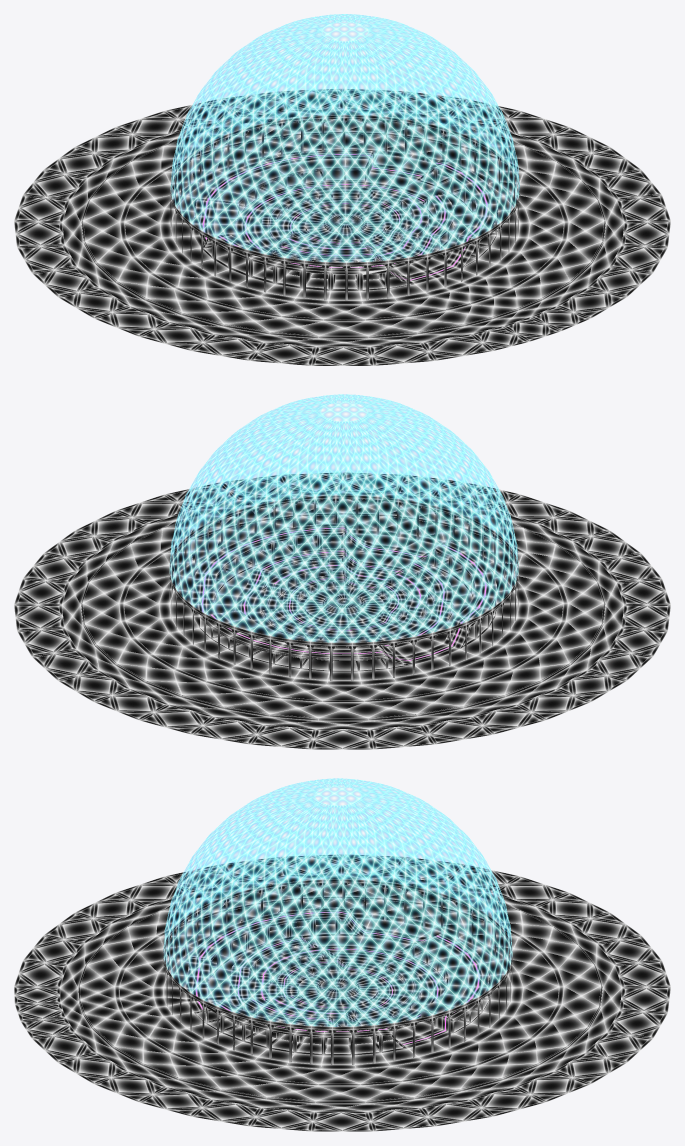
Rendered from uxr_dome_hall.glb.
3 renders of one model, top to bottom at view 1: azimuth 30°, elevation 25°; view 2: azimuth 150°, elevation 25°; view 3: azimuth 270°, elevation 25°, orthographic.
Visible parts, largest first — view 1: domeSTRUCT, DOME, domeCOLUMNS; view 2: domeSTRUCT, DOME, domeCOLUMNS; view 3: domeSTRUCT, DOME, domeCOLUMNS.
Part boxes in pixels (x1,y1,x2,y2): domeSTRUCT: [14, 88, 670, 365]; DOME: [170, 14, 519, 262]; domeCOLUMNS: [170, 114, 519, 300]; domeSTRUCT: [14, 472, 670, 749]; DOME: [169, 394, 518, 642]; domeCOLUMNS: [169, 495, 518, 680]; domeSTRUCT: [14, 854, 670, 1131]; DOME: [163, 778, 512, 1026]; domeCOLUMNS: [163, 879, 512, 1064].
Bounding box in the file's own units: 88.19 × 29.29 × 88.29.
Materials: 4 (3 with a texture image).
